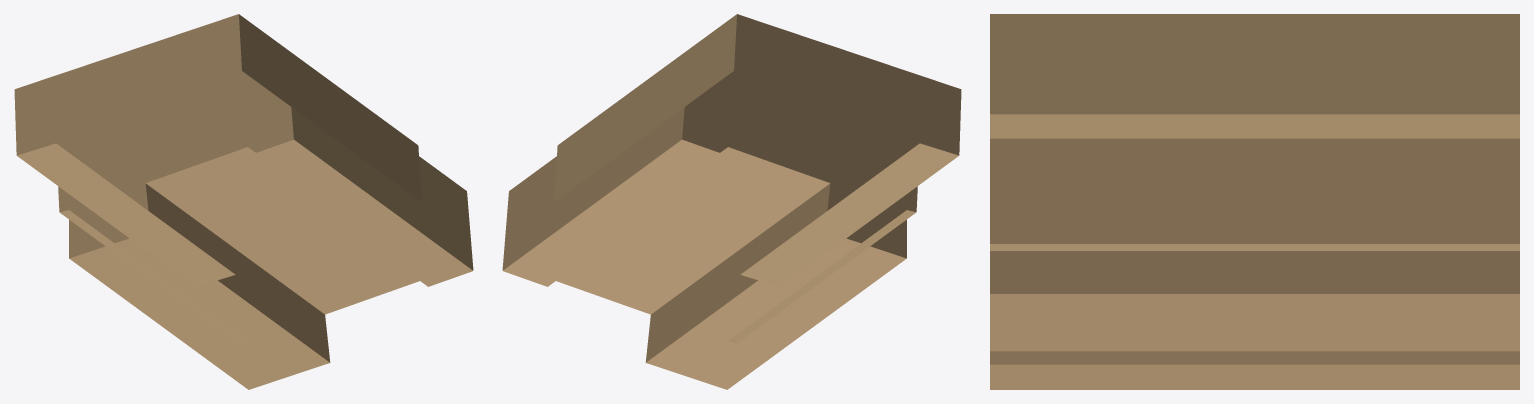
3 renders of one model, left to right at view 1: azimuth 30°, elevation 25°; view 2: azimuth 150°, elevation 25°; view 3: azimuth 270°, elevation 25°, orthographic. The views are drawn at different scales.
Parts seen in each view (by area): view 1: 0_0_1_3_1_2_0_0_2; view 2: 0_0_1_3_1_2_0_0_2; view 3: 0_0_1_3_1_2_0_0_2.
Part boxes in pixels (x1,y1,x2,y2): 0_0_1_3_1_2_0_0_2: (14,14,473,389); 0_0_1_3_1_2_0_0_2: (502,14,961,389); 0_0_1_3_1_2_0_0_2: (990,14,1519,389).
Size of the model in its own units: 21.56 by 14.98 by 24.
